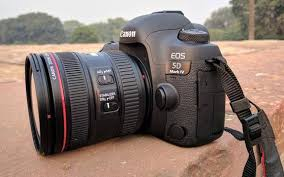camera: (28, 12, 224, 153)
